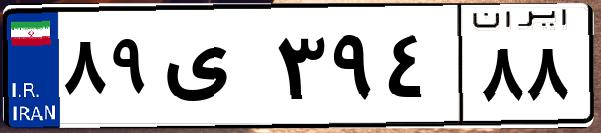3: (270, 28, 330, 110)
4: (385, 28, 445, 110)
8: (57, 26, 110, 100), (475, 38, 525, 113), (525, 38, 570, 115)
9: (330, 28, 385, 110), (110, 28, 158, 98)
ی: (158, 20, 270, 120)
